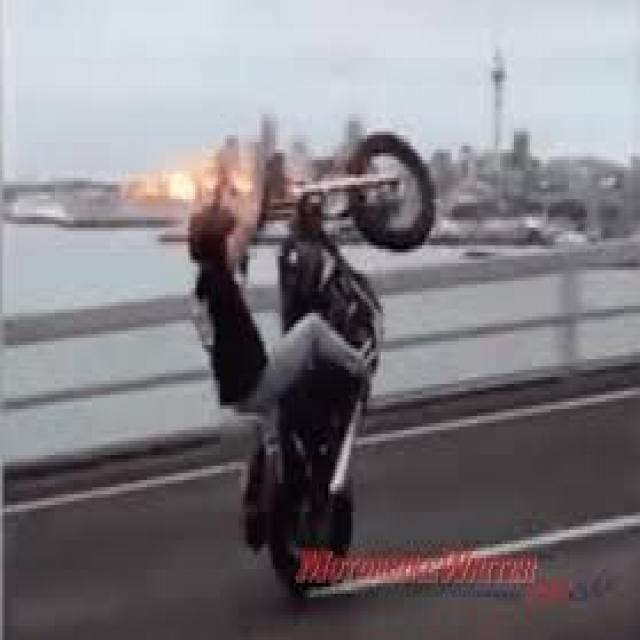Wheeling: (211, 66, 469, 592)
